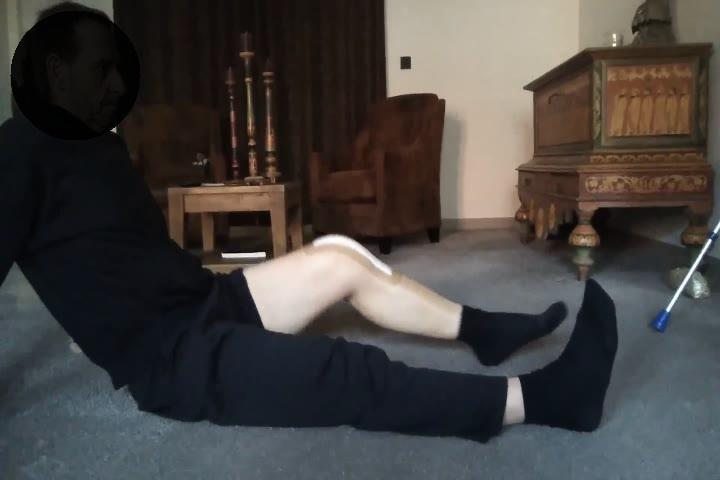lower_body: (128, 222, 629, 461)
